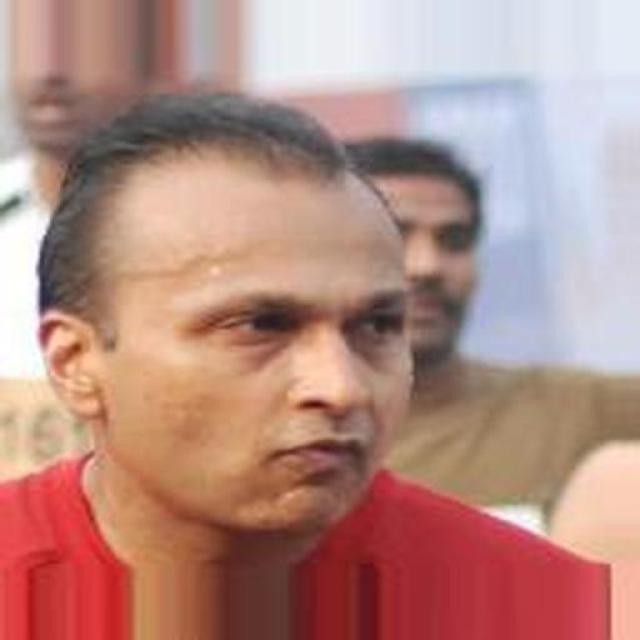bareface: (52, 132, 414, 550), (373, 121, 520, 369)
